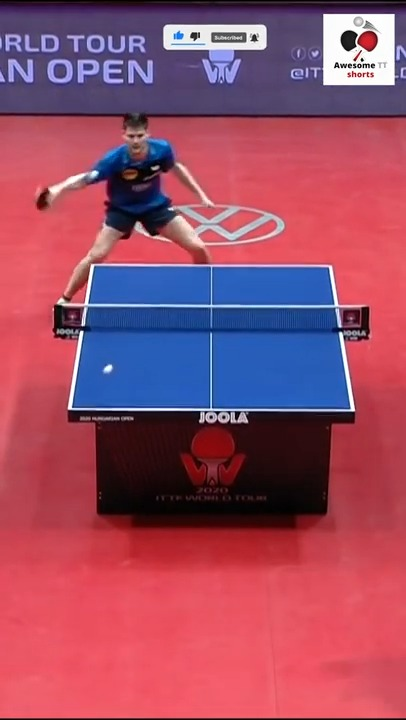Ball: (102, 362, 113, 376)
